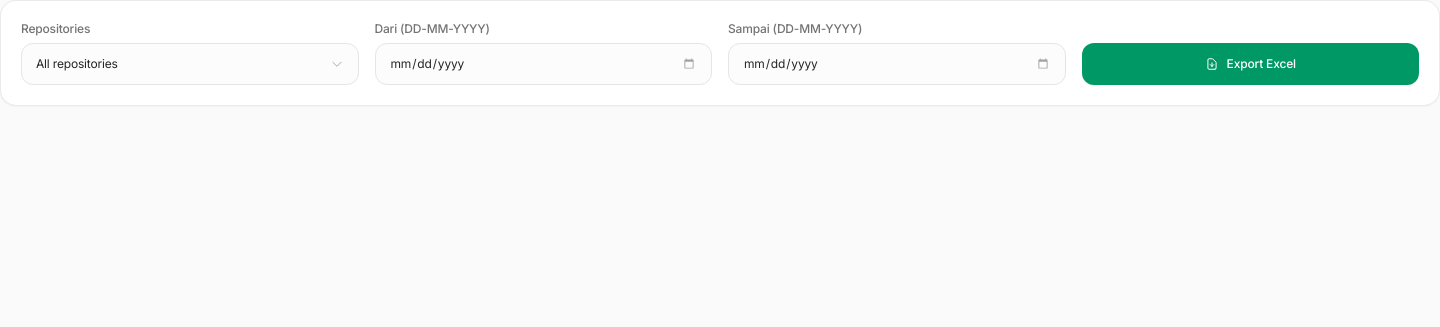
it: UI Components › renders FilterBar and filters by repo owner
Note: Open dropdown
Click the button "All repositories".
click(77, 64)  # box [21,43,358,85]
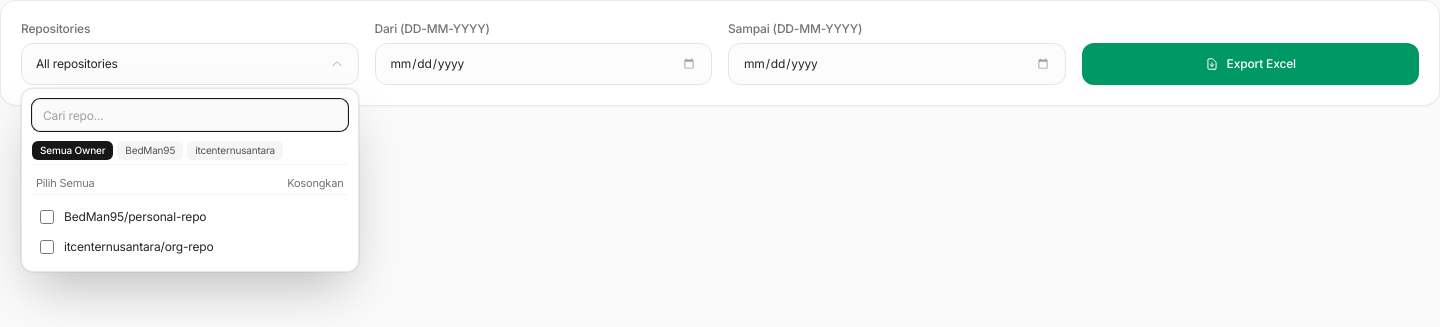
Expected: the button "Semua Owner" is shown, [32,141,113,160]
Expected: the button "BedMan95" is shown
Expected: the button "itcenternusantara" is shown, [187,141,283,160]
Note: Filter by BedMan95 owner
Click the button "BedMan95".
click(150, 151)  # box [117,141,183,160]
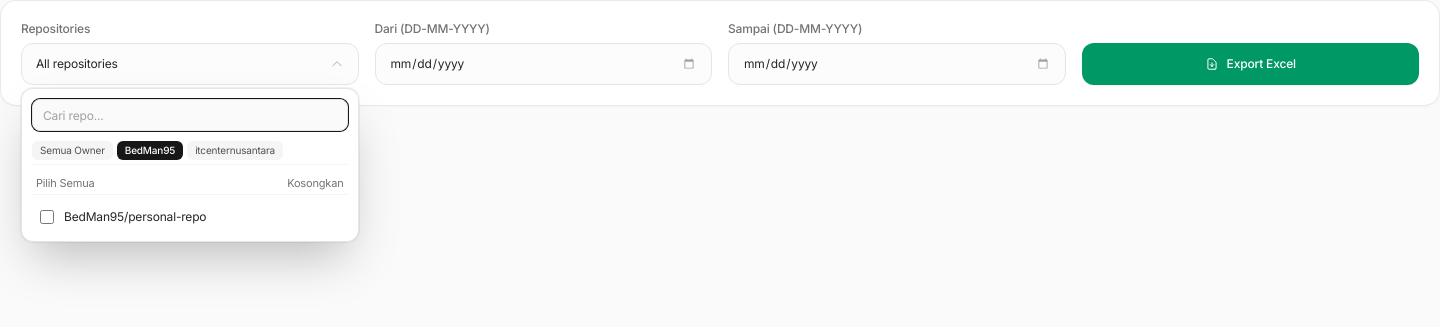
Expected: the text "BedMan95/personal-repo" is shown, [64,209,206,225]
Expected: the text "itcenternusantara/org-repo" is gone
